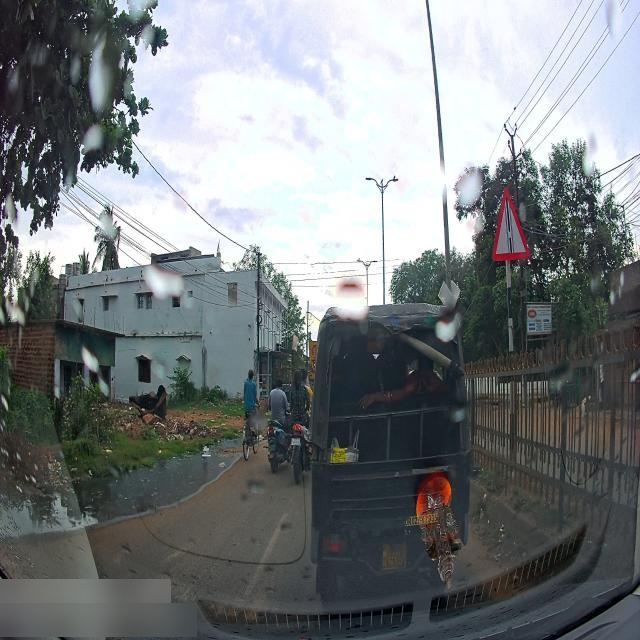pothole: (5, 416, 242, 526)
